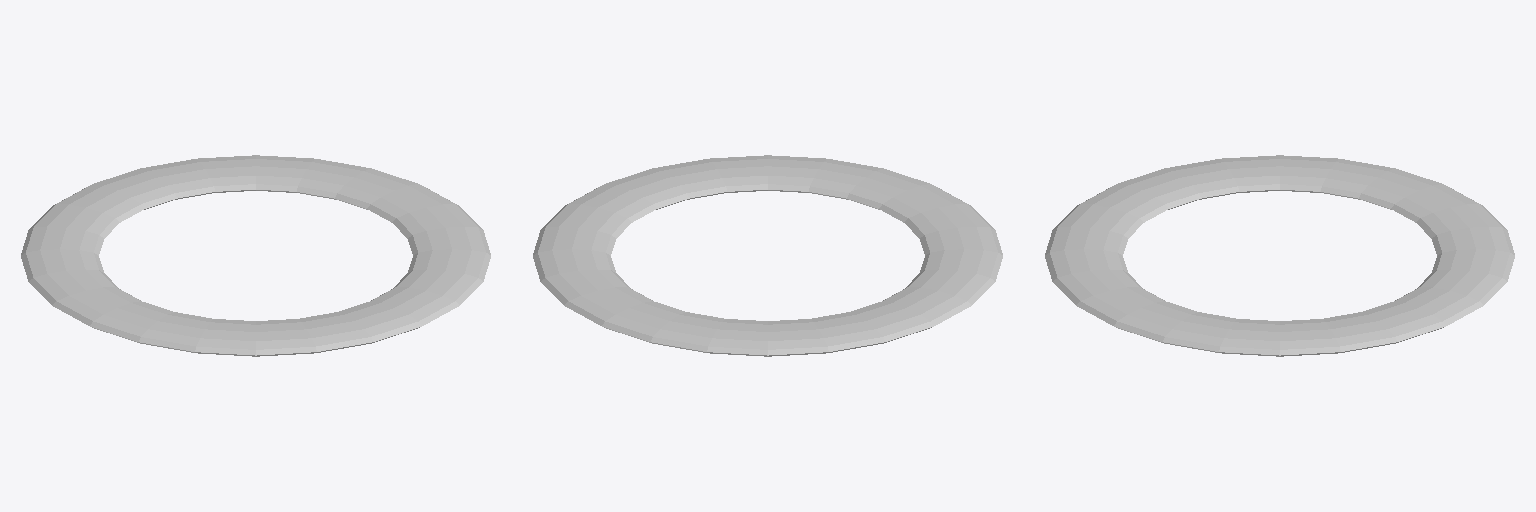
The model's file is SaturnRing.obj.
3 renders of one model, left to right at view 1: azimuth 30°, elevation 25°; view 2: azimuth 150°, elevation 25°; view 3: azimuth 270°, elevation 25°, orthographic.
Bounding box in the file's own units: 2.4 × 0.0762 × 2.4.